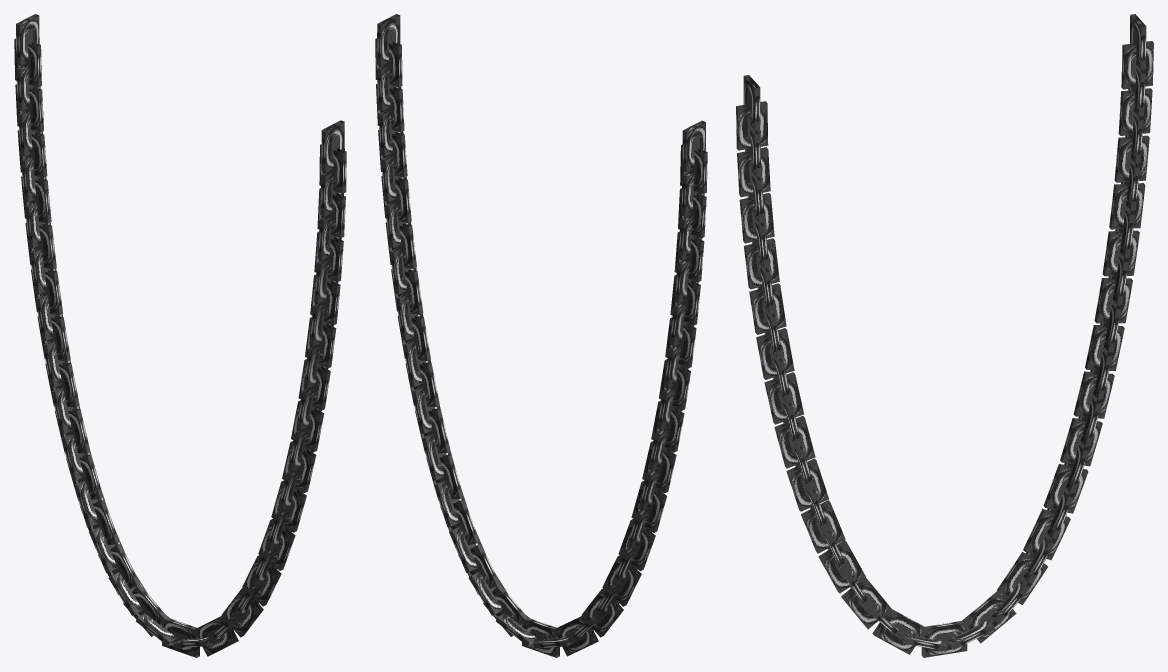
File: SWORDLIGHT20_INST_CHAINA_LOD1_02.fbx
3 renders of one model, left to right at view 1: azimuth 30°, elevation 25°; view 2: azimuth 210°, elevation 25°; view 3: azimuth 270°, elevation 25°, orthographic. The views are drawn at different scales.
Visible parts, largest first — view 1: SWORDLIGHT20_INST_CHAINA_LOD1_02; view 2: SWORDLIGHT20_INST_CHAINA_LOD1_02; view 3: SWORDLIGHT20_INST_CHAINA_LOD1_02.
Boxes of the visible parts, left/top/right/bottom form: SWORDLIGHT20_INST_CHAINA_LOD1_02: left=14, top=14, right=346, bottom=657; SWORDLIGHT20_INST_CHAINA_LOD1_02: left=375, top=14, right=707, bottom=657; SWORDLIGHT20_INST_CHAINA_LOD1_02: left=736, top=14, right=1153, bottom=657.
Size of the model in its own units: 5590 by 21114 by 13280.
Materials: 1 (1 with a texture image).
